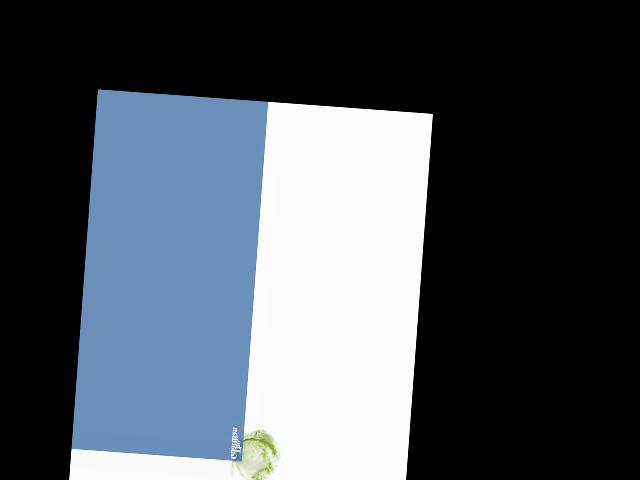lettuce: (234, 429, 284, 480)
